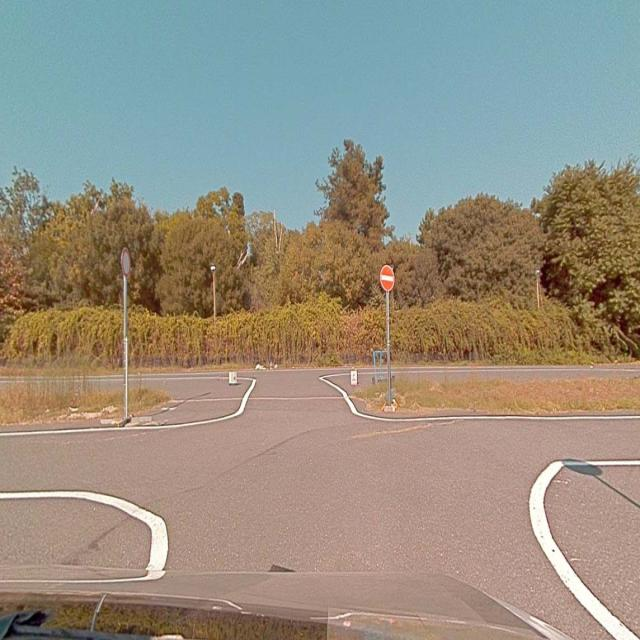girisyok: (379, 266, 394, 290)
